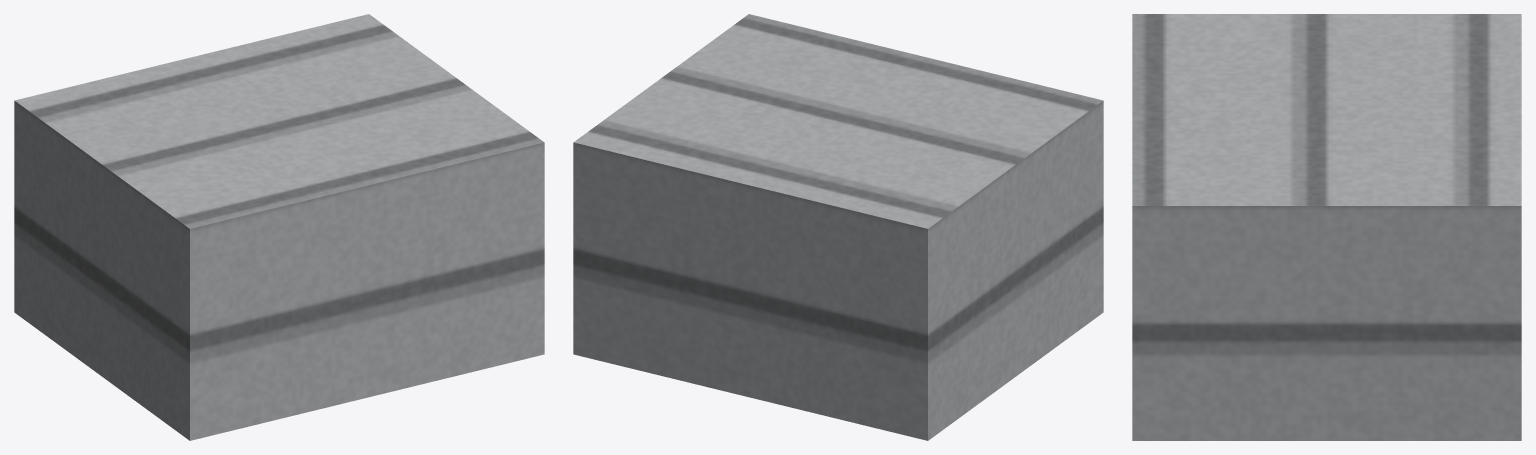
The model's file is shop_scale.glb.
3 views of the same model, side by side, from view 1: azimuth 30°, elevation 25°; view 2: azimuth 150°, elevation 25°; view 3: azimuth 270°, elevation 25° (orthographic). The views are drawn at different scales.
Parts seen in each view (by area): view 1: shop_scale-col; view 2: shop_scale-col; view 3: shop_scale-col.
Part boxes in pixels (x1=…): shop_scale-col: x1=14, y1=14, x2=544, y2=440; shop_scale-col: x1=573, y1=14, x2=1103, y2=440; shop_scale-col: x1=1132, y1=14, x2=1521, y2=440.
Bounding box in the file's own units: 0.35 × 0.2 × 0.3.
1 material, 1 textured.
